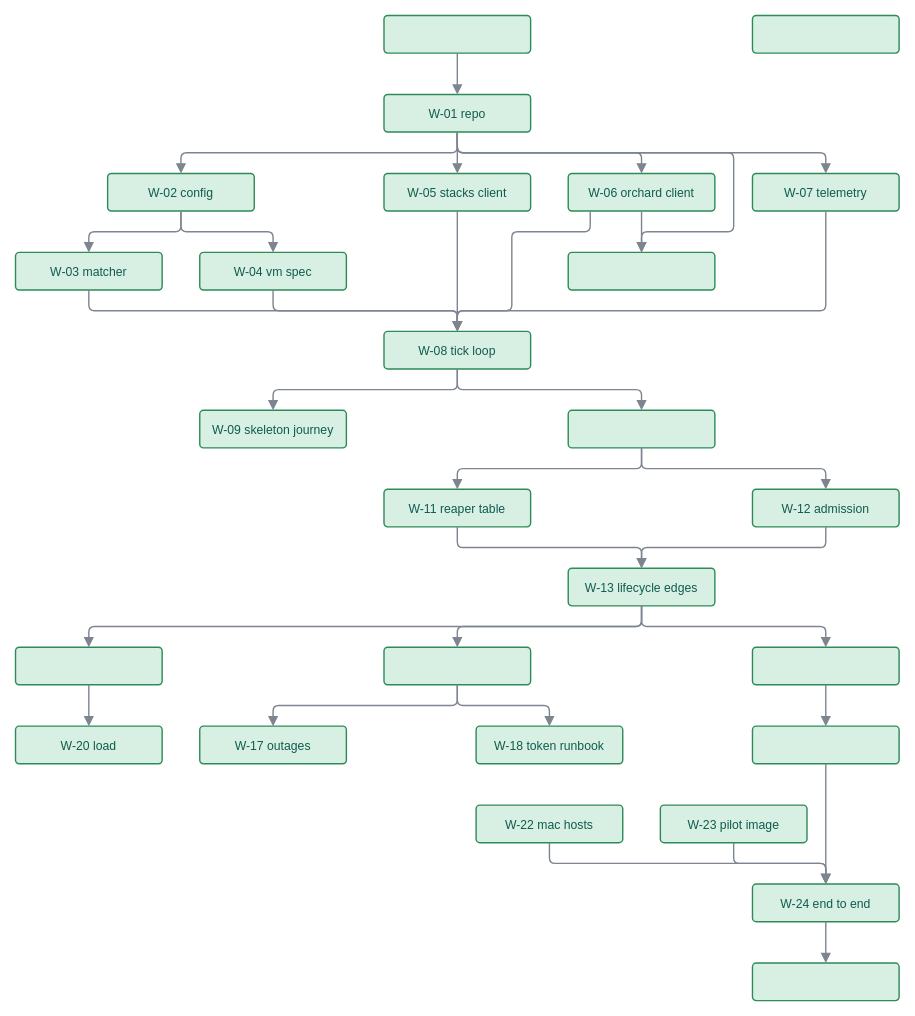
Image size: 915x1016. Some labels were removed from this diagram. Here are the shapes that lost their labels. From the top down, the box of each, then its label:
(383, 14, 531, 53): W-26 docs gate
(751, 14, 899, 53): W-27 upstream watch
(567, 251, 715, 290): W-19 drift checks
(567, 409, 715, 448): W-10 job states
(14, 646, 162, 685): W-14 invariants
(383, 646, 531, 685): W-15 health
(751, 646, 899, 685): W-16 telemetry full
(751, 725, 899, 764): W-21 kubernetes
(751, 962, 899, 1001): W-25 pilot start
